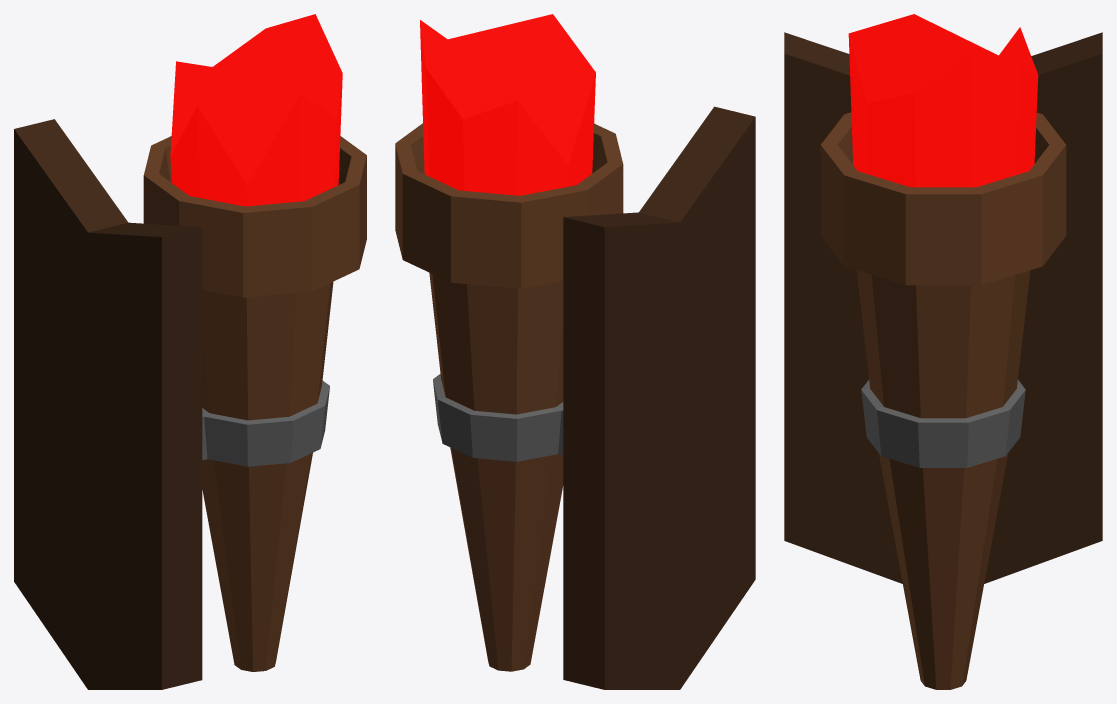
Rendered from torch.glb.
3 views of the same model, side by side, from view 1: azimuth 30°, elevation 25°; view 2: azimuth 150°, elevation 25°; view 3: azimuth 270°, elevation 25° (orthographic). The views are drawn at different scales.
Visible parts, largest first — view 1: Cube; view 2: Cube; view 3: Cube.
Part boxes in pixels (x1,y1,x2,y2): Cube: (14, 14, 366, 689); Cube: (395, 14, 755, 689); Cube: (784, 14, 1102, 689).
Size of the model in its own units: 4.85 by 11.02 by 4.75.
3 materials, 2 textured.
